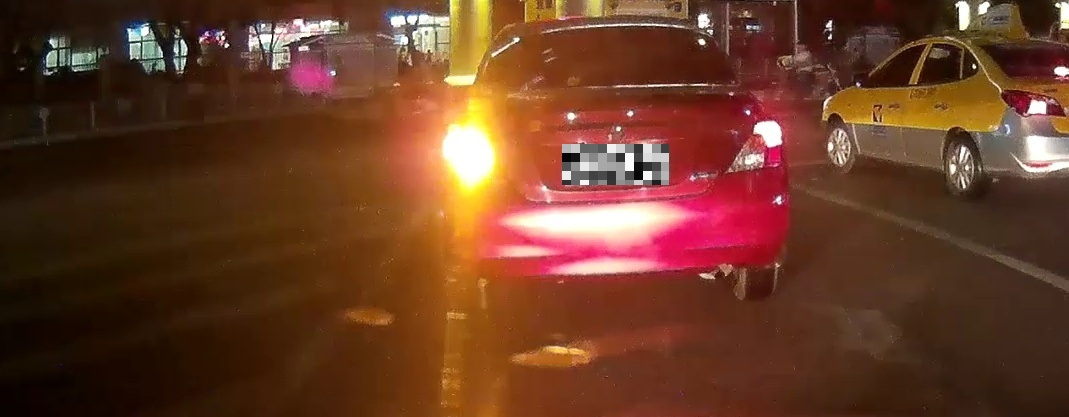L_light: (442, 125, 497, 186)
R_light: (724, 119, 785, 174)
T_light: (599, 26, 631, 35)
night-left: (433, 16, 797, 308)
plate_1: (562, 144, 669, 185)
